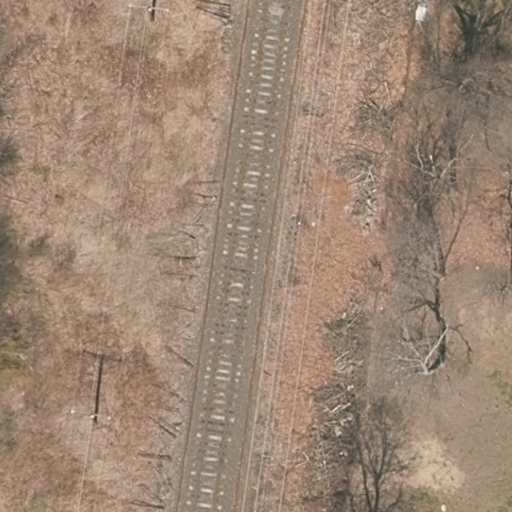DT: (67, 408, 112, 423), (124, 2, 171, 16)
